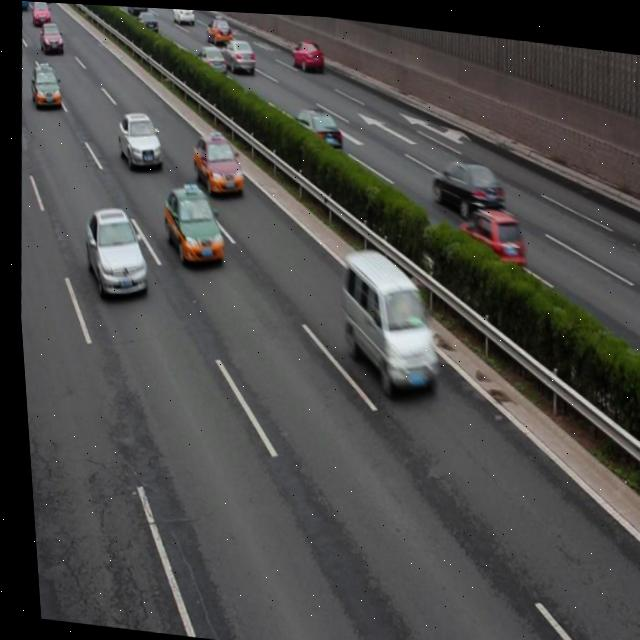car: (76, 205, 150, 301), (156, 181, 226, 268), (425, 151, 504, 215), (450, 200, 523, 269), (187, 125, 245, 197), (112, 107, 164, 173), (287, 102, 343, 151), (28, 61, 63, 111), (219, 34, 256, 74), (289, 35, 323, 72), (193, 40, 226, 75), (38, 22, 66, 56), (204, 11, 232, 44), (134, 8, 159, 35), (31, 1, 51, 26), (171, 7, 195, 23)
truck: (330, 241, 440, 397)
